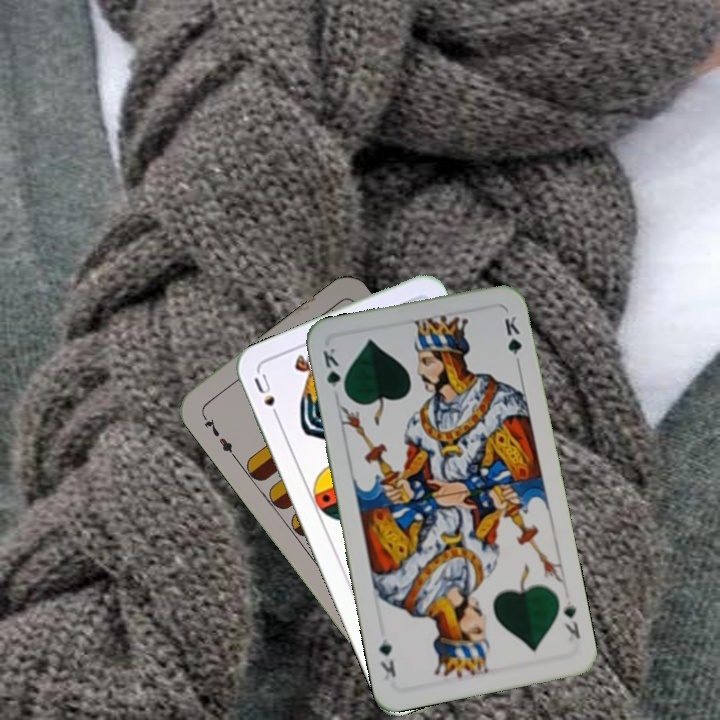E7: (198, 409, 239, 461)
GK: (318, 344, 349, 399), (559, 596, 583, 641)
SU: (250, 369, 284, 425)
